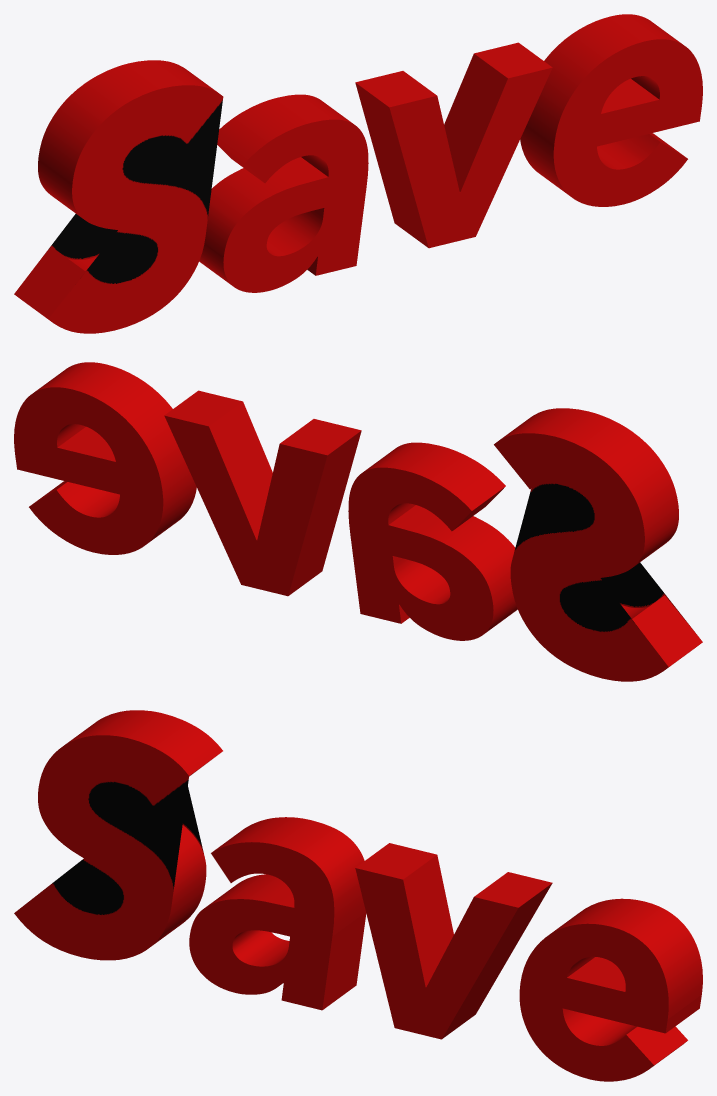
Rendered from Save.fbx.
3 renders of one model, top to bottom at view 1: azimuth 30°, elevation 25°; view 2: azimuth 150°, elevation 25°; view 3: azimuth 330°, elevation 25°, orthographic.
Visible parts, largest first — view 1: Cap_1, Extrude_NURBS_1, Cap_2; view 2: Cap_2, Extrude_NURBS_1, Cap_1; view 3: Cap_1, Extrude_NURBS_1.
Boxes of the visible parts, x1,y1,x2,y2 form: Cap_1: (48, 39, 702, 333); Extrude_NURBS_1: (14, 14, 687, 319); Cap_2: (18, 214, 117, 288); Cap_2: (14, 387, 668, 681); Extrude_NURBS_1: (29, 362, 702, 667); Cap_1: (600, 562, 698, 636); Cap_1: (14, 735, 668, 1081); Extrude_NURBS_1: (65, 710, 702, 1066).
Bounding box in the file's own units: 443 × 149 × 40.
3 materials, 3 textured.
